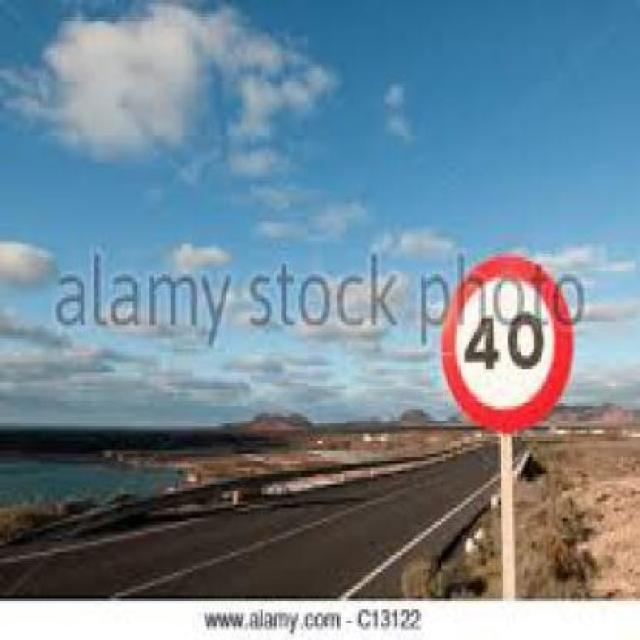forb_speed_over_40: (449, 265, 563, 423)
